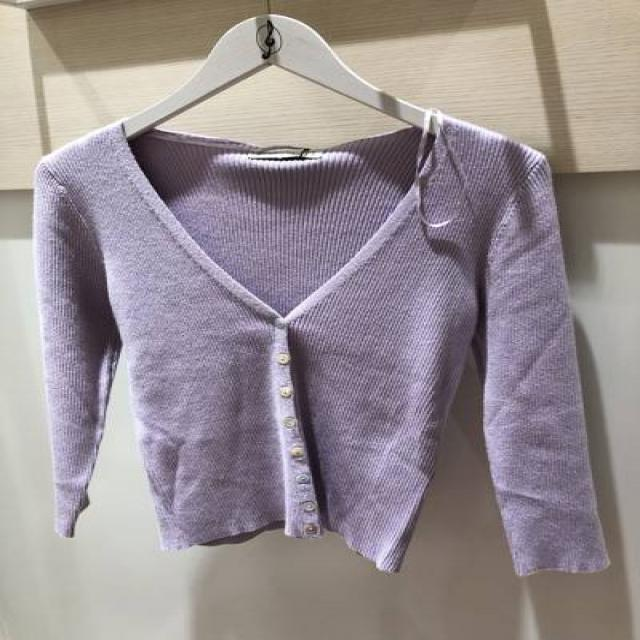Clothes -Biodegradable-: (34, 116, 617, 579)
